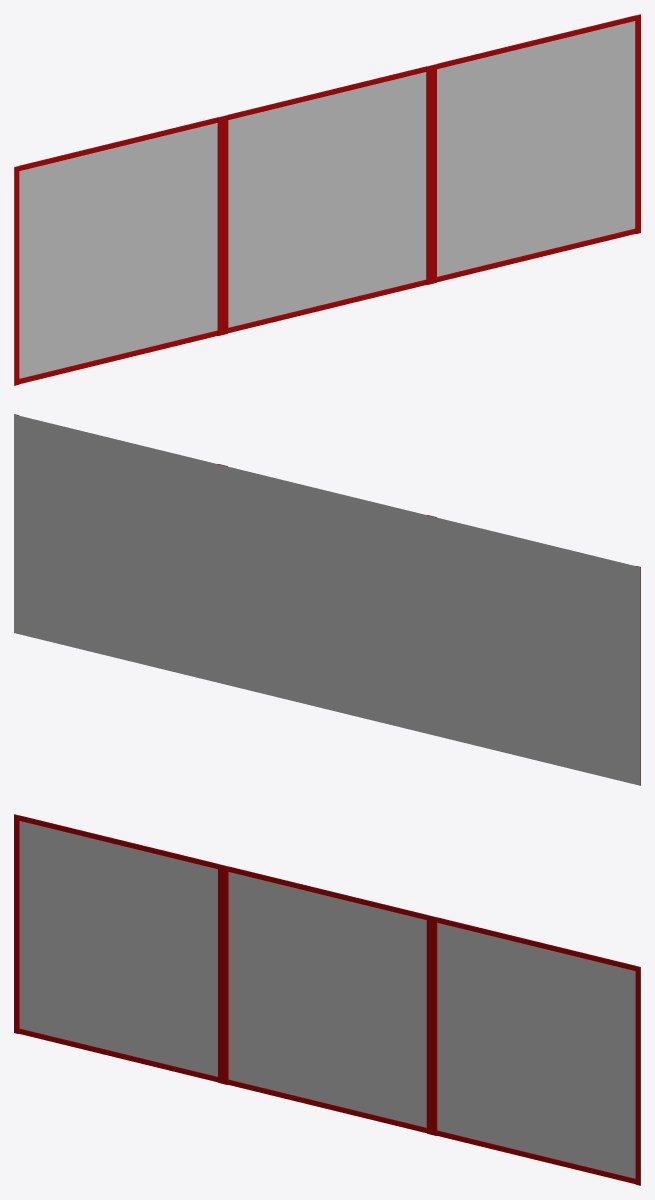
The model's file is Wall02Top.fbx.
3 renders of one model, top to bottom at view 1: azimuth 30°, elevation 25°; view 2: azimuth 150°, elevation 25°; view 3: azimuth 330°, elevation 25°, orthographic.
Visible parts, largest first — view 1: Wall02Top; view 2: Wall02Top; view 3: Wall02Top.
Part boxes in pixels (x1=…): Wall02Top: x1=14, y1=14, x2=640, y2=385; Wall02Top: x1=14, y1=414, x2=640, y2=785; Wall02Top: x1=14, y1=814, x2=640, y2=1185.
Bounding box in the file's own units: 300 × 100 × 0.348.
